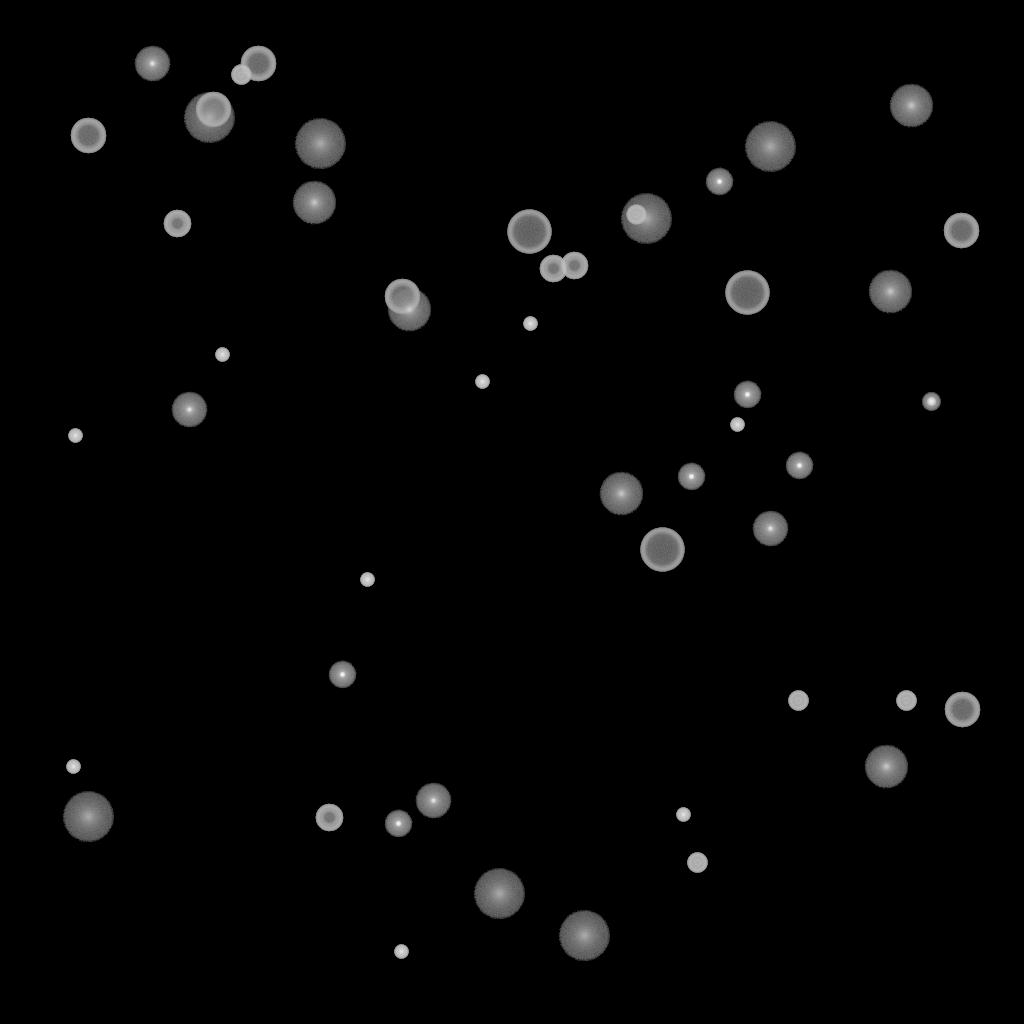depth:-10: (384, 810, 412, 838), (705, 168, 733, 196), (785, 452, 813, 480), (677, 463, 705, 491), (328, 661, 356, 689), (733, 381, 761, 409)
depth:-20: (922, 393, 940, 411)
depth:-30: (475, 375, 489, 389), (730, 418, 744, 432), (66, 760, 80, 774), (360, 573, 374, 587), (215, 348, 229, 362), (394, 945, 408, 959), (523, 317, 537, 331), (676, 808, 690, 822), (68, 429, 82, 443)
depth:-40: (626, 205, 646, 225), (788, 691, 808, 711), (687, 853, 707, 873), (896, 691, 916, 711), (231, 65, 251, 85)
depth:-50: (560, 252, 588, 280), (539, 255, 567, 283), (163, 210, 191, 238), (315, 804, 343, 832)
depth:-60: (195, 92, 231, 128), (384, 279, 420, 315), (240, 46, 276, 82), (943, 213, 979, 249), (70, 118, 106, 154), (944, 692, 980, 728)
depth:-70: (507, 210, 551, 254), (640, 528, 684, 572), (725, 271, 769, 315)
depth:0: (171, 392, 207, 428), (415, 783, 451, 819), (752, 511, 788, 547), (134, 46, 170, 82)
depth:10: (868, 270, 912, 314), (292, 181, 336, 225), (387, 288, 431, 332), (864, 745, 908, 789), (889, 84, 933, 128), (599, 472, 643, 516)
depth:20: (620, 194, 672, 244), (294, 119, 346, 169), (558, 911, 610, 961), (744, 122, 796, 172), (183, 93, 235, 143), (62, 792, 114, 842), (473, 869, 525, 919)
